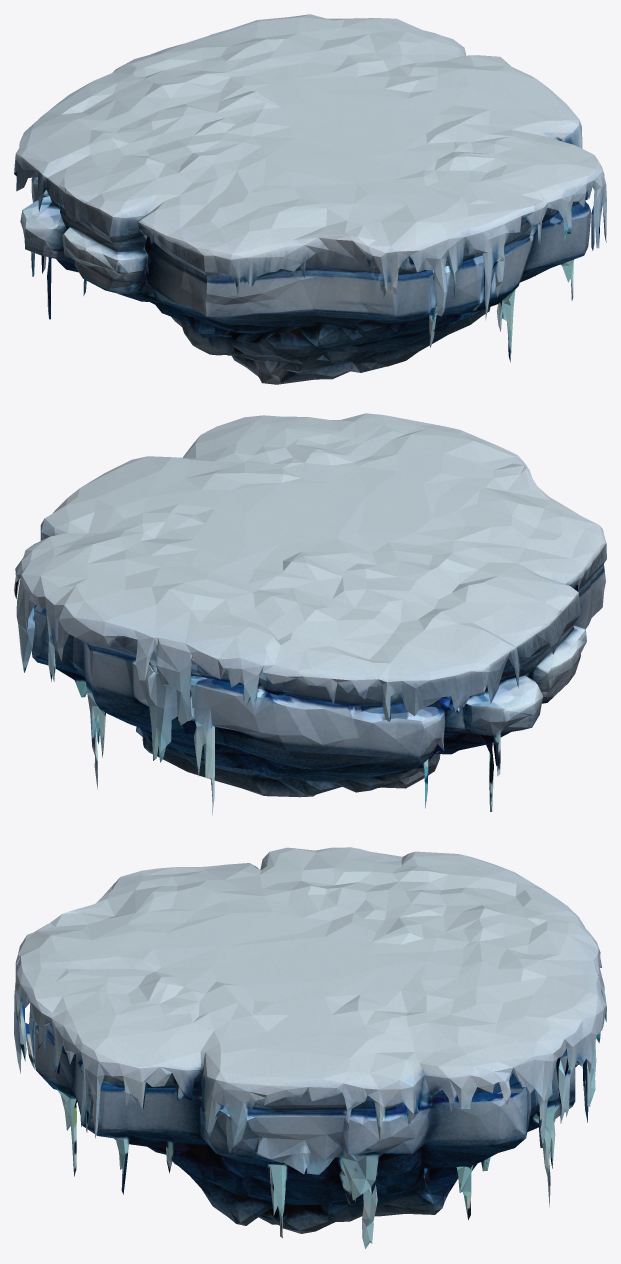
File: alpine_ledge.glb
3 renders of one model, top to bottom at view 1: azimuth 30°, elevation 25°; view 2: azimuth 150°, elevation 25°; view 3: azimuth 270°, elevation 25°, orthographic. The views are drawn at different scales.
Parts seen in each view (by area): view 1: tmphj_kh70k.ply; view 2: tmphj_kh70k.ply; view 3: tmphj_kh70k.ply.
Boxes of the visible parts, x1,y1,x2,y2 form: tmphj_kh70k.ply: [14, 14, 606, 384]; tmphj_kh70k.ply: [14, 413, 606, 815]; tmphj_kh70k.ply: [14, 847, 606, 1248].
Bounding box in the file's own units: 1.99 × 0.9302 × 1.99.
Materials: 1 (1 with a texture image).
